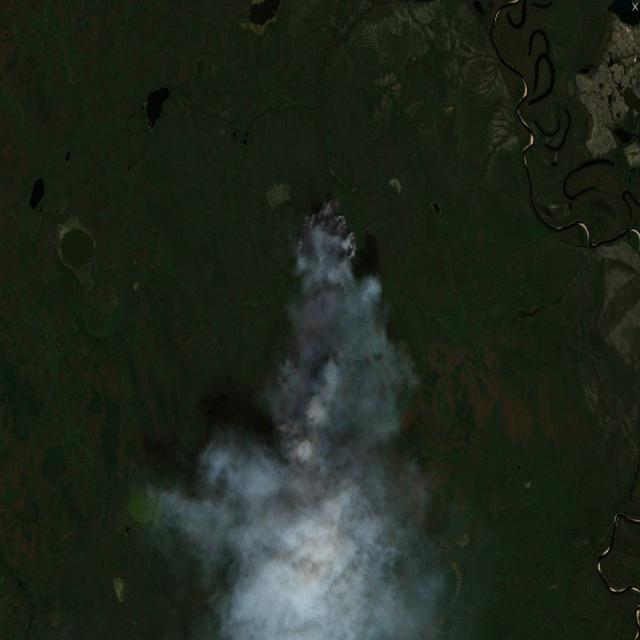fire: (270, 193, 358, 464)
